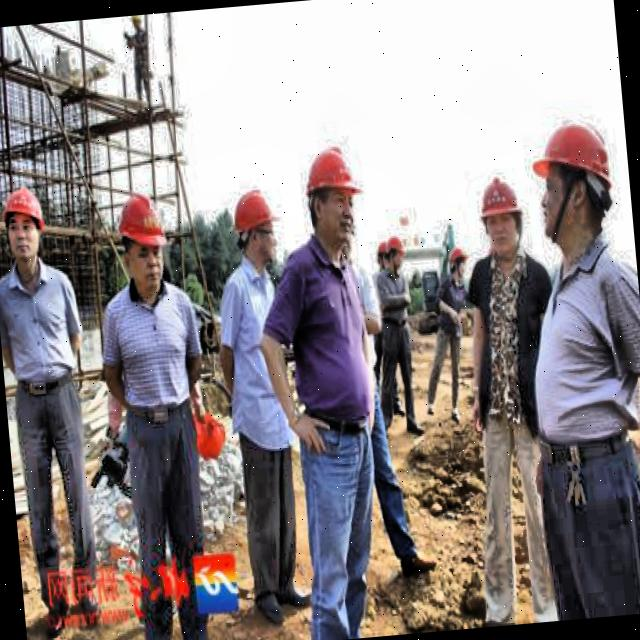helmet: (528, 114, 620, 256), (296, 138, 368, 253), (110, 184, 174, 298), (474, 168, 532, 262), (0, 179, 51, 273), (230, 182, 284, 270), (382, 232, 412, 277), (446, 243, 470, 281), (374, 240, 392, 274)
